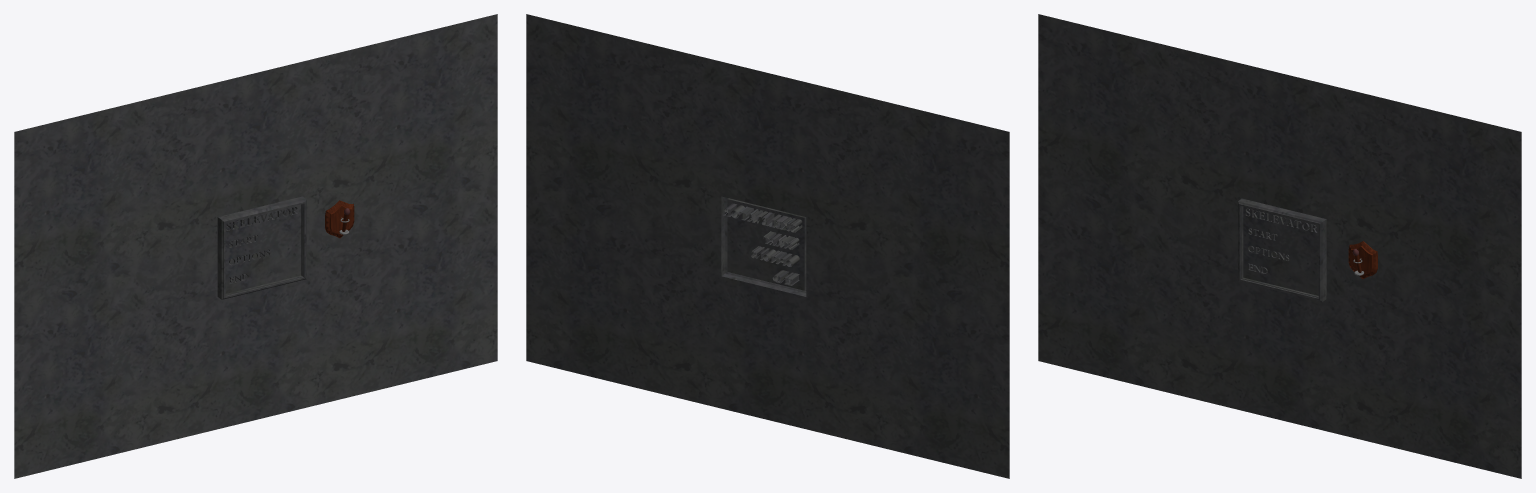
Rendered from finished_startscreen_wall.fbx.
The picture shows the model from 3 angles, left to right: view 1: azimuth 30°, elevation 25°; view 2: azimuth 150°, elevation 25°; view 3: azimuth 330°, elevation 25°; orthographic projection.
Parts seen in each view (by area): view 1: Startscreen_wall, Fackelbrett; view 2: Startscreen_wall; view 3: Startscreen_wall, Fackelbrett.
Part boxes in pixels (box(x1,y1,x2,y2)): Startscreen_wall: box(14, 14, 497, 478); Fackelbrett: box(325, 200, 354, 238); Startscreen_wall: box(526, 14, 1009, 478); Startscreen_wall: box(1038, 14, 1521, 478); Fackelbrett: box(1348, 241, 1377, 278).
Size of the model in its own units: 49.08 by 33.66 by 2.49.
